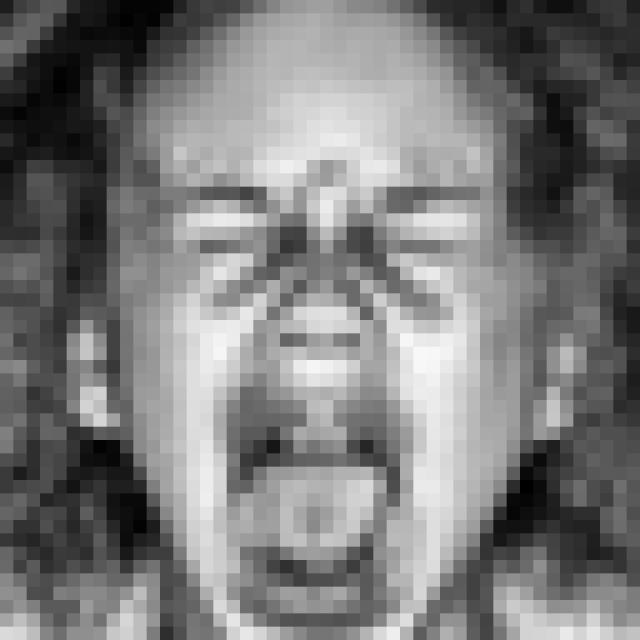angry: (157, 149, 503, 616)
